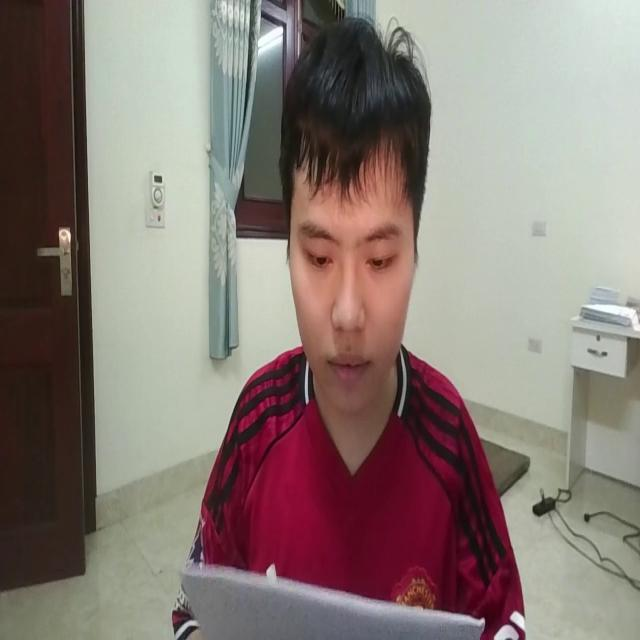book: (181, 546, 488, 640)
student: (177, 6, 523, 640)
